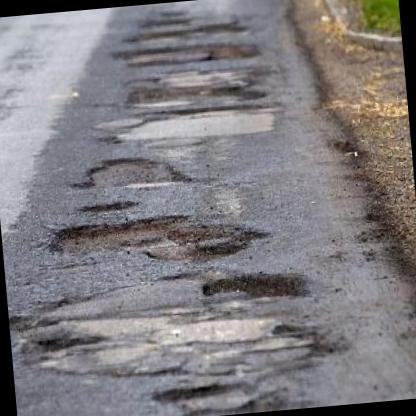pothole: (46, 204, 274, 276), (64, 148, 194, 198), (108, 34, 260, 72), (122, 74, 268, 113), (199, 267, 314, 309), (119, 20, 245, 48), (76, 197, 140, 215)
